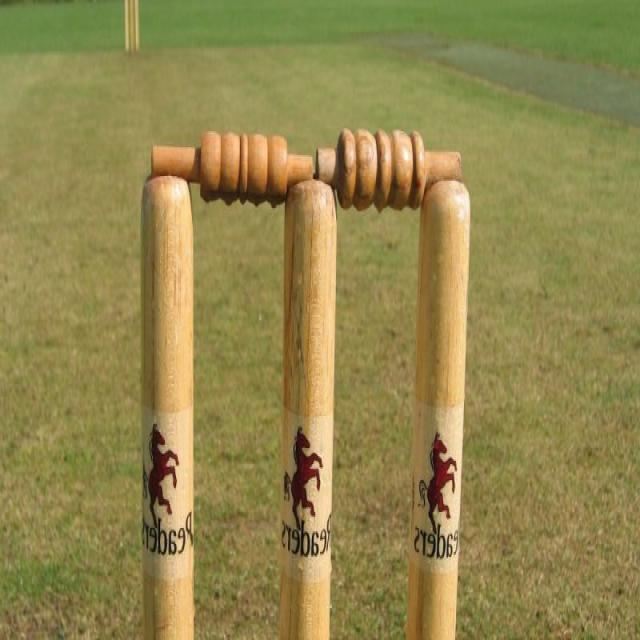stump: (139, 124, 471, 637), (120, 2, 141, 54)
